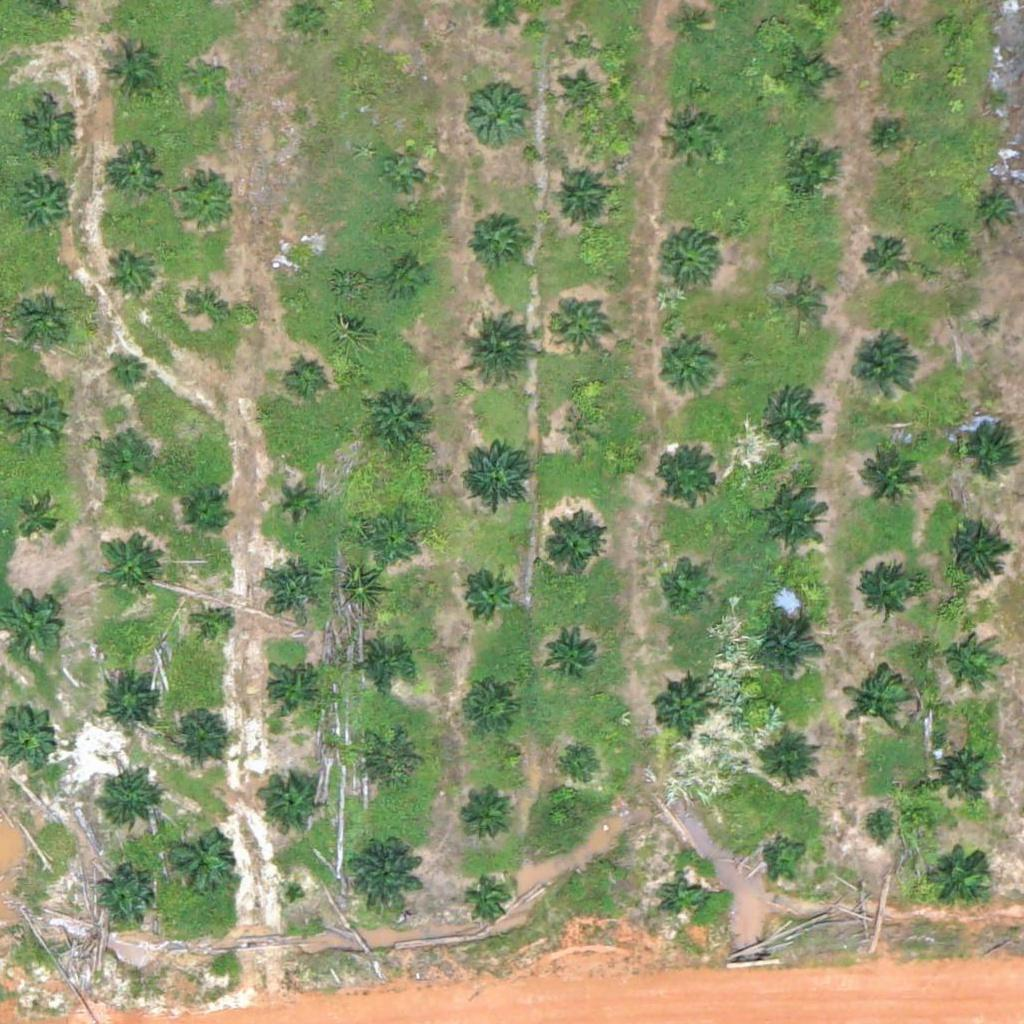Kelapa_Sawit: (850, 564, 925, 640), (753, 483, 828, 559), (846, 336, 921, 412), (854, 438, 929, 514), (346, 836, 421, 912), (160, 823, 235, 899), (842, 666, 917, 742), (458, 317, 533, 392), (460, 431, 535, 506), (751, 615, 826, 690), (259, 553, 322, 616), (464, 81, 527, 144), (18, 99, 81, 162), (955, 413, 1018, 476), (540, 515, 603, 578), (545, 622, 608, 685), (93, 771, 156, 834), (260, 772, 323, 835), (92, 868, 155, 931), (932, 843, 995, 906), (759, 733, 822, 796), (931, 738, 994, 801), (651, 681, 714, 744), (95, 535, 157, 598), (363, 391, 425, 454), (465, 208, 527, 271), (10, 291, 72, 354), (98, 43, 160, 106), (548, 165, 610, 228), (658, 445, 720, 508), (944, 521, 1007, 583), (761, 387, 823, 450), (658, 109, 720, 172), (778, 142, 840, 205), (656, 229, 718, 292), (660, 340, 722, 403), (550, 294, 612, 357), (359, 731, 421, 794), (777, 43, 839, 106), (15, 178, 77, 240), (100, 673, 162, 735), (167, 701, 229, 763), (365, 518, 415, 569), (460, 569, 510, 620), (464, 682, 514, 733), (764, 831, 814, 882), (658, 873, 708, 924), (557, 740, 607, 791), (859, 235, 909, 286), (360, 640, 410, 690), (111, 146, 161, 196), (181, 178, 231, 228), (94, 441, 144, 491), (940, 630, 990, 680), (659, 563, 709, 613), (459, 793, 509, 843), (264, 663, 314, 713), (774, 280, 824, 330), (465, 874, 515, 924), (180, 488, 230, 538), (11, 497, 61, 547), (973, 183, 1023, 233), (554, 74, 604, 124), (106, 250, 156, 300), (859, 809, 897, 847), (196, 609, 234, 647), (109, 352, 147, 390), (871, 5, 909, 43), (674, 10, 712, 48), (186, 63, 224, 101), (284, 246, 322, 284), (190, 288, 228, 326), (389, 262, 426, 300), (564, 411, 601, 449), (275, 484, 312, 522), (289, 360, 327, 397), (384, 150, 421, 187), (873, 121, 898, 147), (977, 311, 1002, 336)
